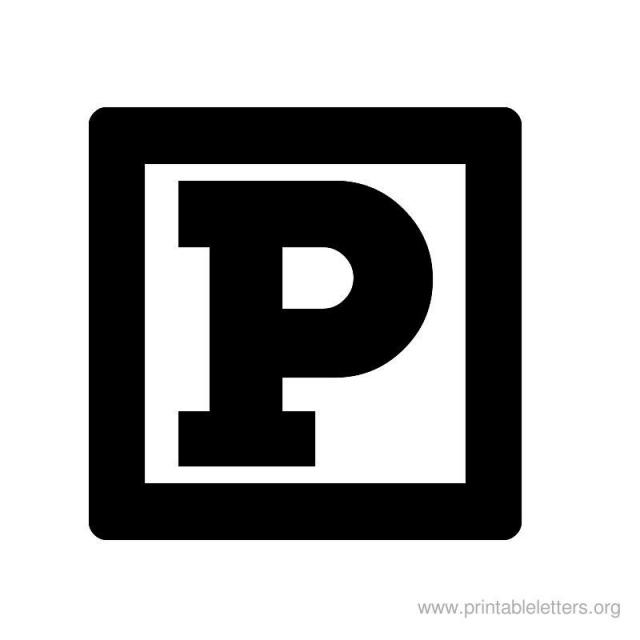P: (160, 166, 452, 475)
